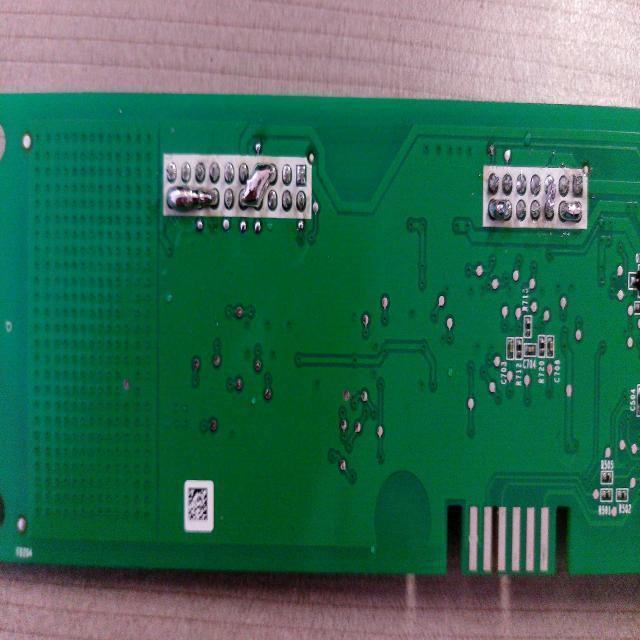Soldering shorted: (236, 160, 278, 218), (162, 182, 221, 216), (557, 198, 587, 236), (542, 168, 558, 222), (486, 198, 512, 225)
